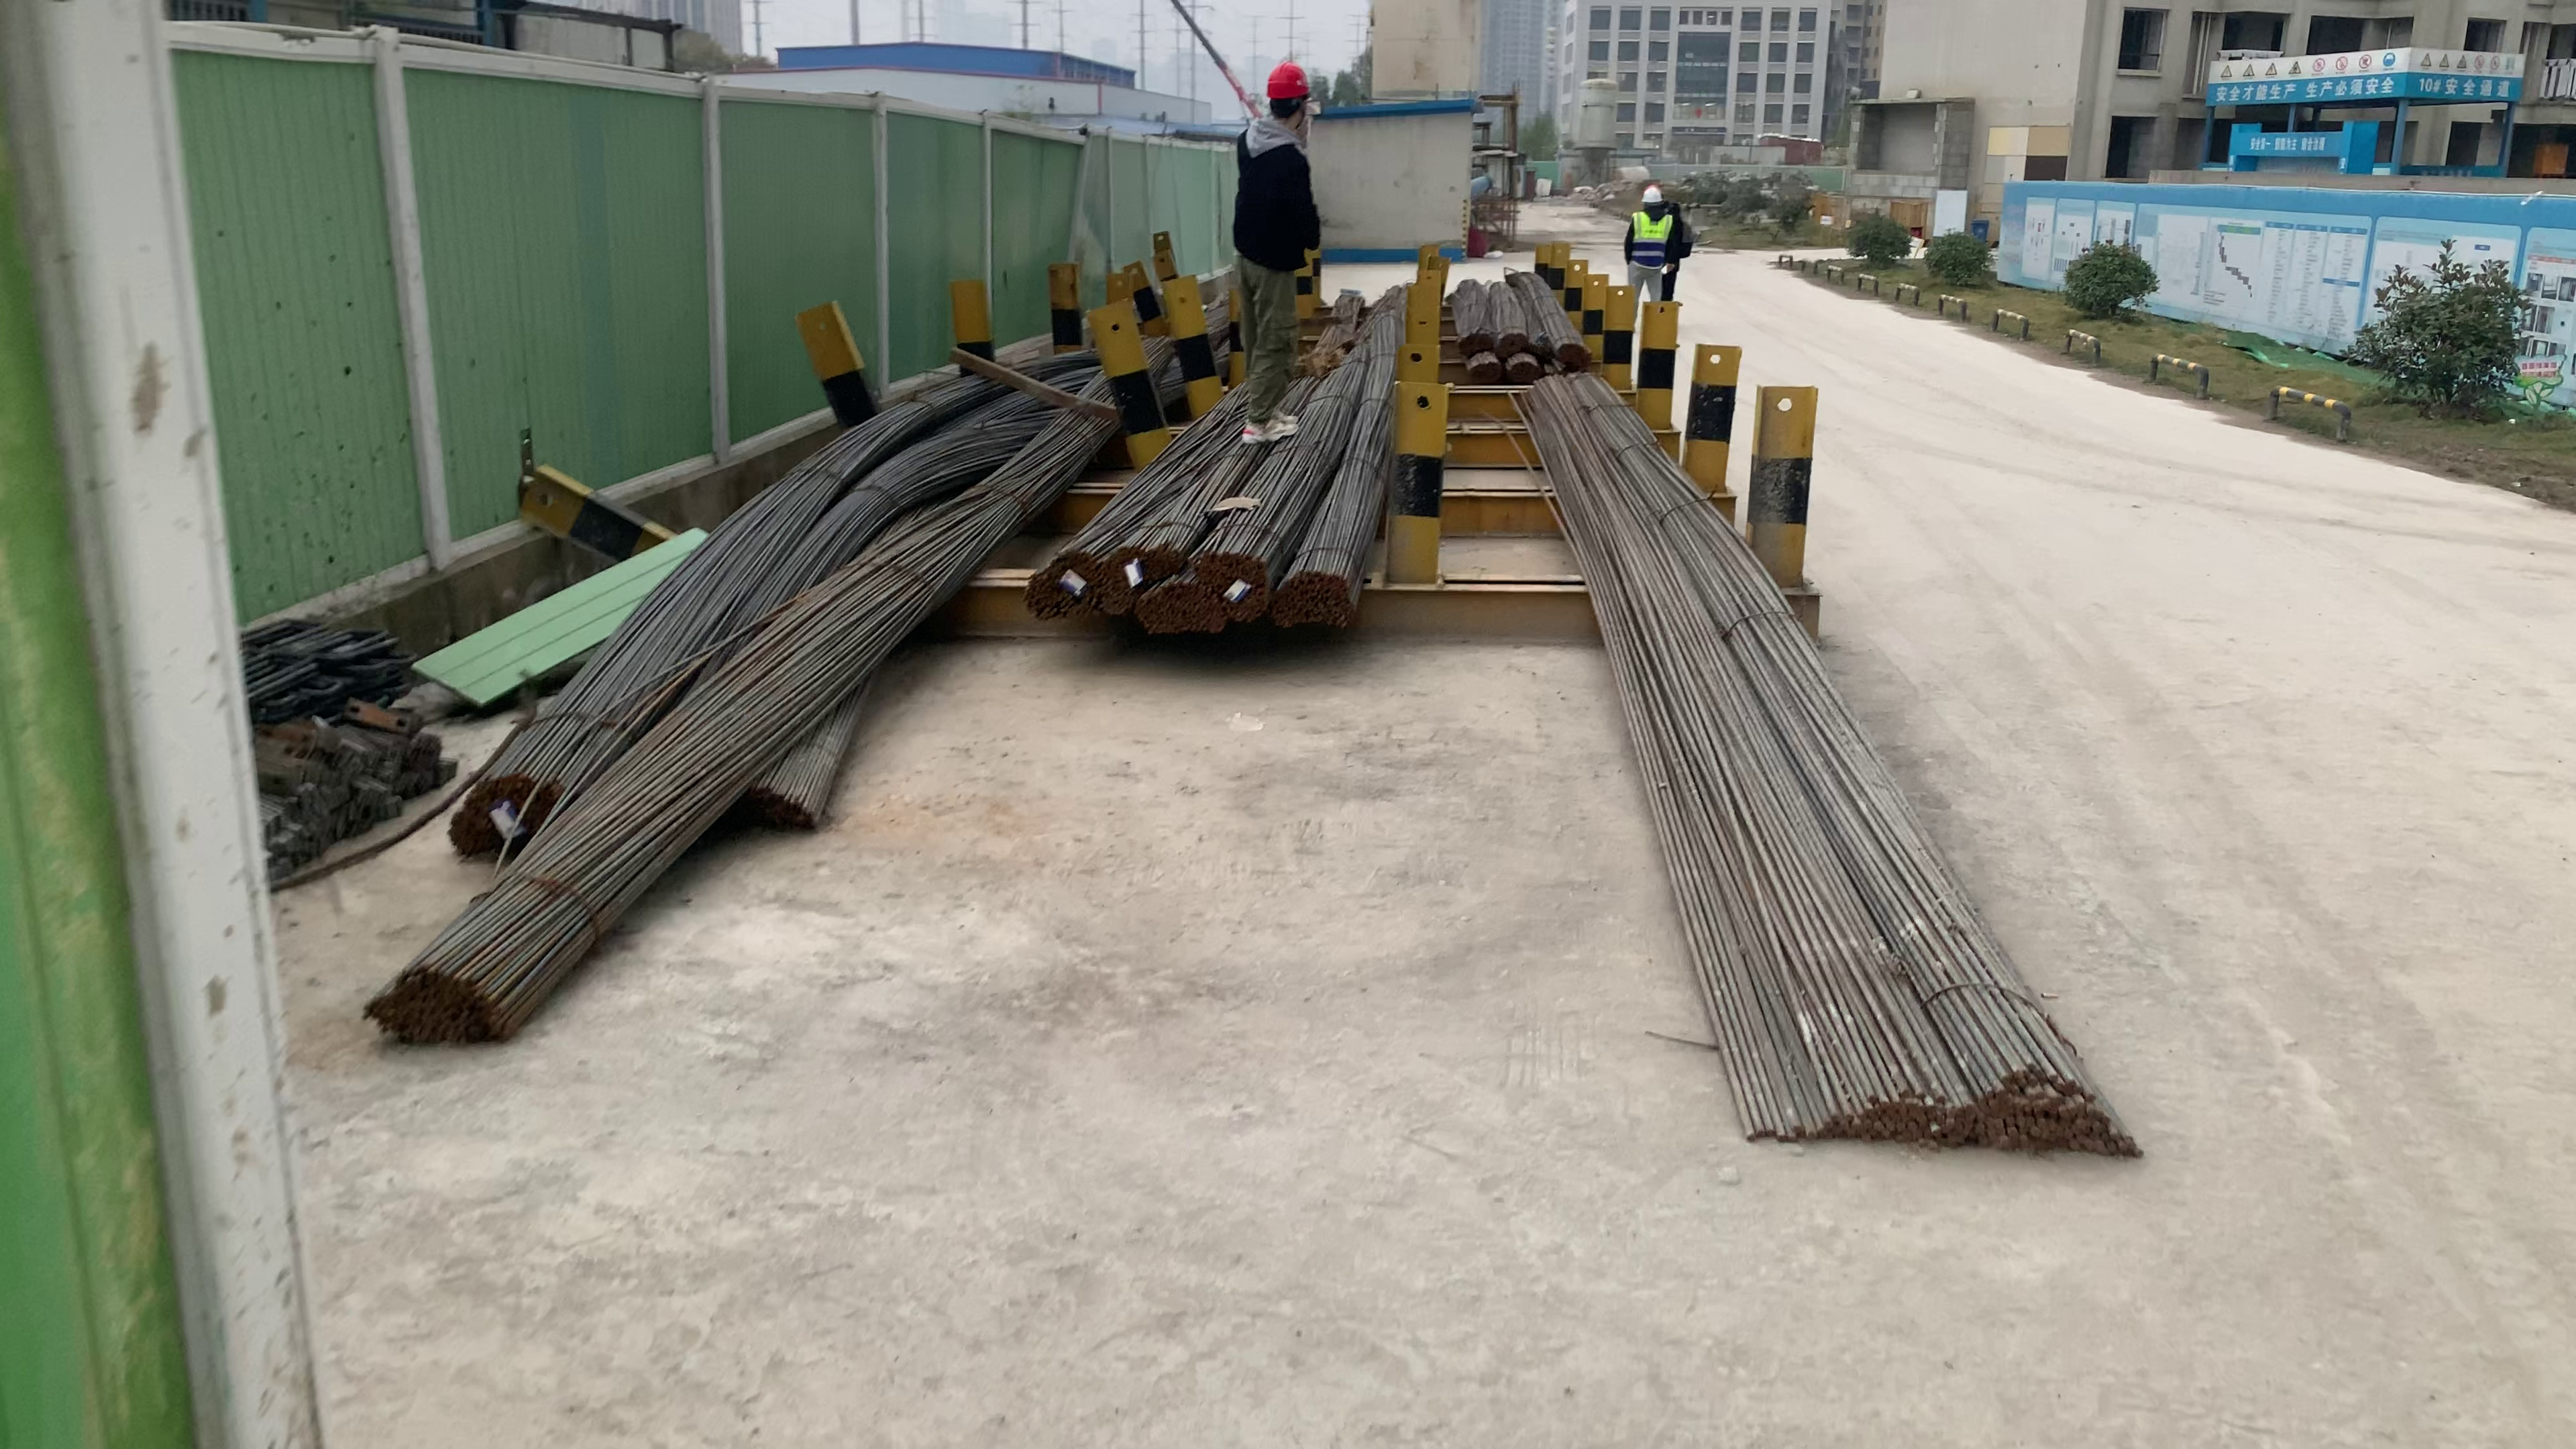rebar: (1736, 1069, 2146, 1169), (364, 952, 515, 1046), (448, 777, 559, 847), (1021, 548, 1100, 619), (1100, 540, 1178, 609), (1194, 540, 1261, 619), (1274, 570, 1352, 628), (738, 777, 817, 832), (1145, 586, 1217, 637), (1507, 357, 1546, 382), (1557, 340, 1591, 366), (1453, 326, 1493, 347), (1467, 357, 1499, 380), (1493, 331, 1525, 347)
